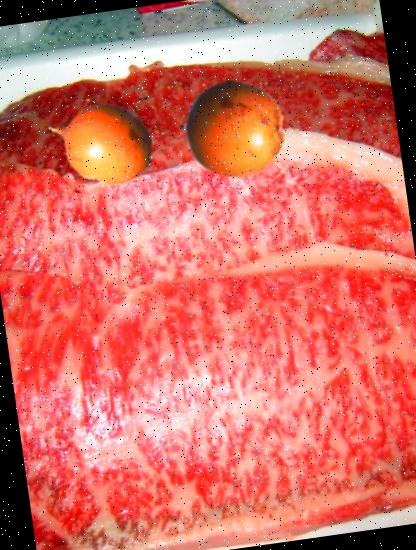Granadilla: (40, 82, 162, 204), (172, 67, 294, 189)
